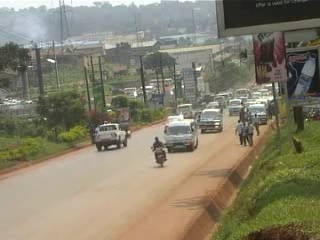Car: (161, 114, 187, 131)
Motorcycle: (150, 144, 170, 168)
